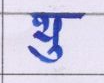u_matra: (29, 42, 65, 62)
